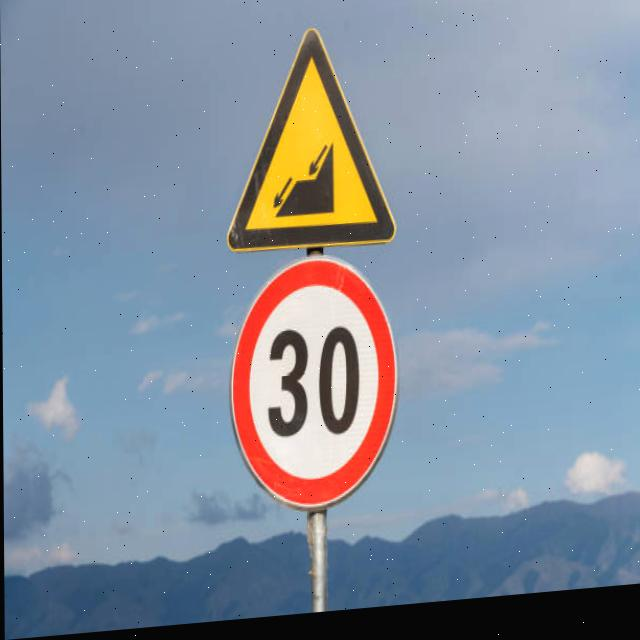Speed limit 30: (227, 253, 400, 525)
